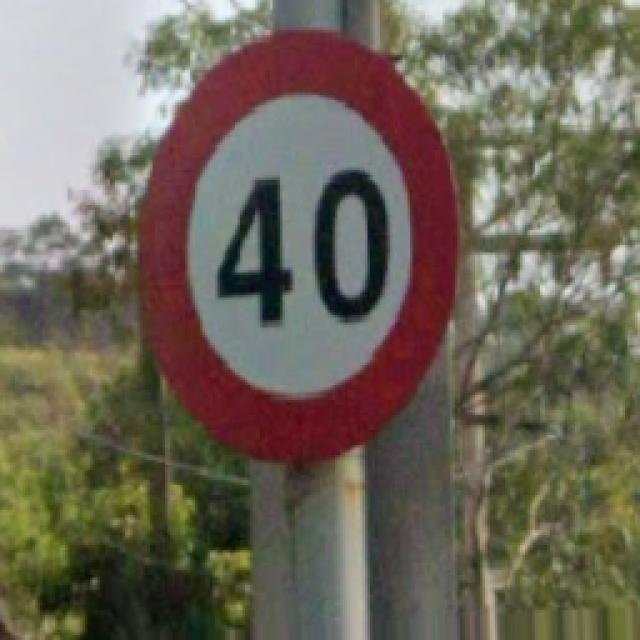Speed Limit -40-: (142, 30, 455, 460)
